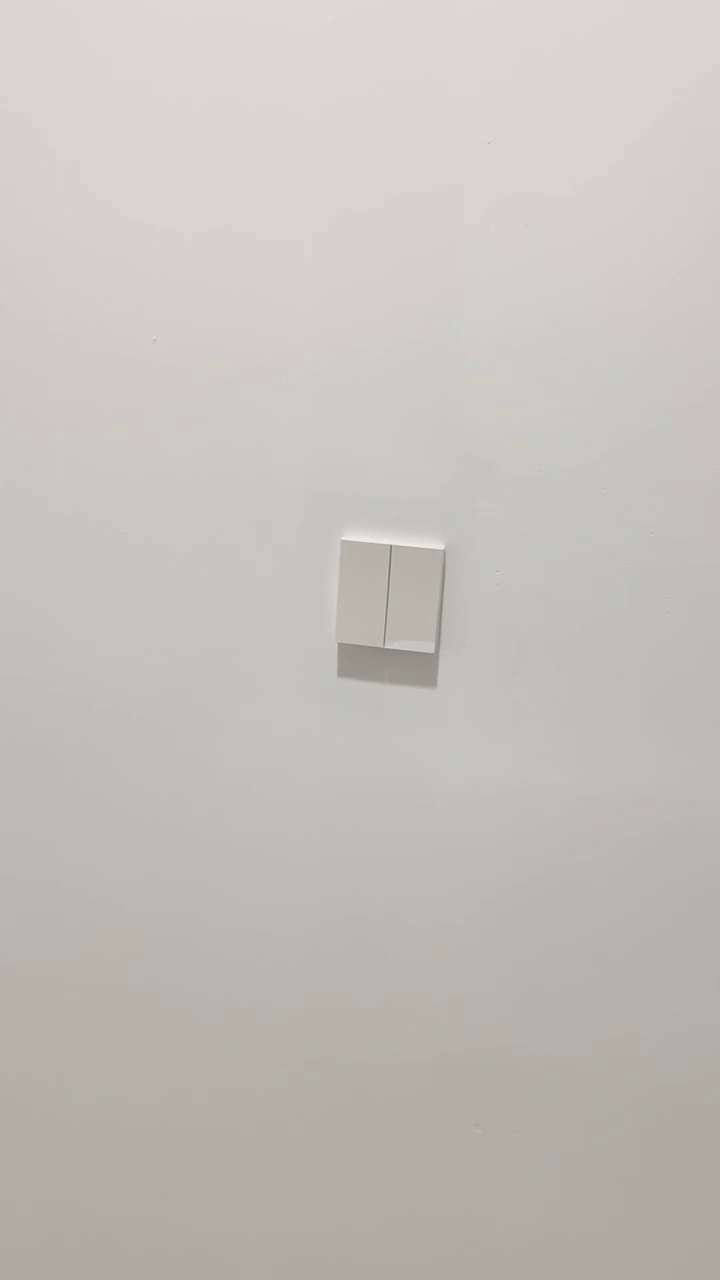button: (329, 531, 450, 657)
